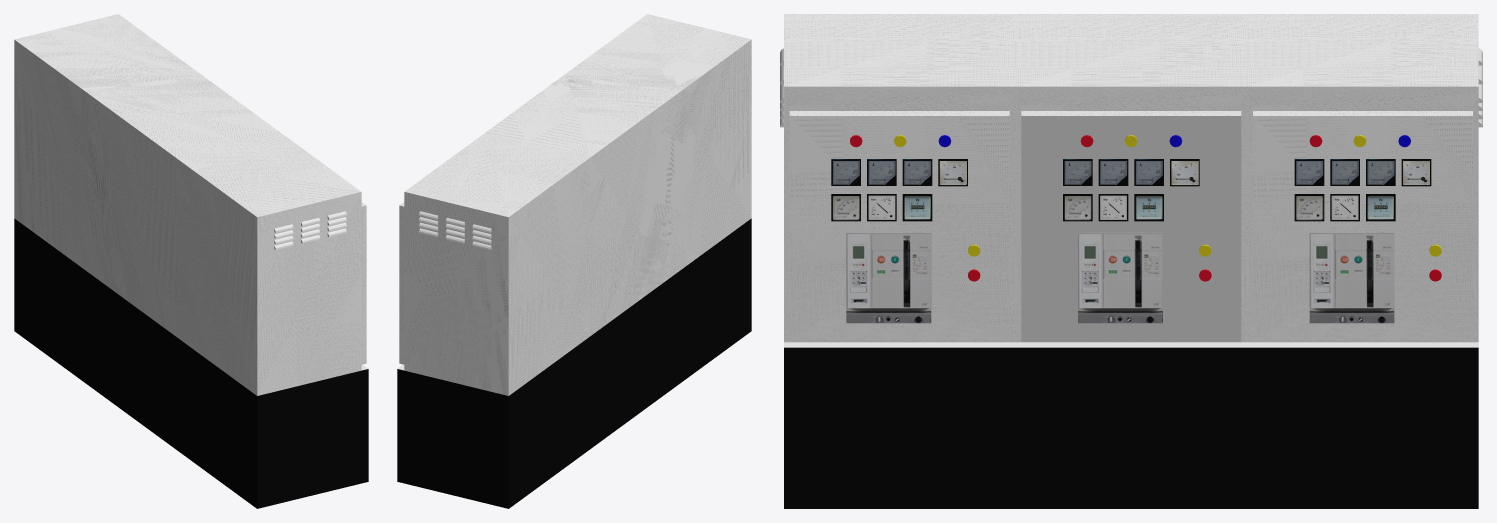
Rendered from Panel Belakang.fbx.
3 views of the same model, side by side, from view 1: azimuth 30°, elevation 25°; view 2: azimuth 150°, elevation 25°; view 3: azimuth 270°, elevation 25° (orthographic). The views are drawn at different scales.
Visible parts, largest first — view 1: group_4.008, group_4.003, group_4.013, group_4.007, group_4.012, group_4.002, Cylinder.013, group_4.009; view 2: group_4.003, group_4.008, group_4.013, group_4.002, group_4.012, group_4.007, Cylinder.013, group_4.004; view 3: group_4.002, group_4.007, group_4.012, group_4.009, group_4.014, group_4.004, group_4.008, group_4.013, group_4.003, group_9.001, group_9, group_9.002 (+25 smaller).
Boxes of the visible parts, x1=… form: group_4.008: x1=176, y1=132, x2=361, y2=395; group_4.003: x1=14, y1=14, x2=198, y2=276; group_4.013: x1=95, y1=73, x2=279, y2=336; group_4.007: x1=176, y1=337, x2=368, y2=508; group_4.012: x1=95, y1=278, x2=176, y2=449; group_4.002: x1=14, y1=218, x2=95, y2=389; Cylinder.013: x1=274, y1=211, x2=346, y2=249; group_4.009: x1=361, y1=202, x2=366, y2=364; group_4.003: x1=404, y1=132, x2=589, y2=395; group_4.008: x1=567, y1=14, x2=751, y2=276; group_4.013: x1=486, y1=73, x2=670, y2=336; group_4.002: x1=397, y1=337, x2=589, y2=508; group_4.012: x1=589, y1=278, x2=670, y2=449; group_4.007: x1=670, y1=218, x2=751, y2=389; Cylinder.013: x1=419, y1=211, x2=491, y2=249; group_4.004: x1=399, y1=202, x2=404, y2=364; group_4.002: x1=1247, y1=347, x2=1478, y2=508; group_4.007: x1=784, y1=347, x2=1015, y2=508; group_4.012: x1=1015, y1=347, x2=1246, y2=508; group_4.009: x1=789, y1=111, x2=1009, y2=341; group_4.014: x1=1021, y1=111, x2=1241, y2=341; group_4.004: x1=1253, y1=111, x2=1472, y2=341; group_4.008: x1=784, y1=14, x2=1015, y2=342; group_4.013: x1=1015, y1=14, x2=1246, y2=342; group_4.003: x1=1247, y1=14, x2=1478, y2=342; group_9.001: x1=846, y1=232, x2=931, y2=323; group_9: x1=1309, y1=232, x2=1394, y2=323; group_9.002: x1=1078, y1=232, x2=1162, y2=323.
Size of the model in its own units: 62.69 by 155 by 237.
